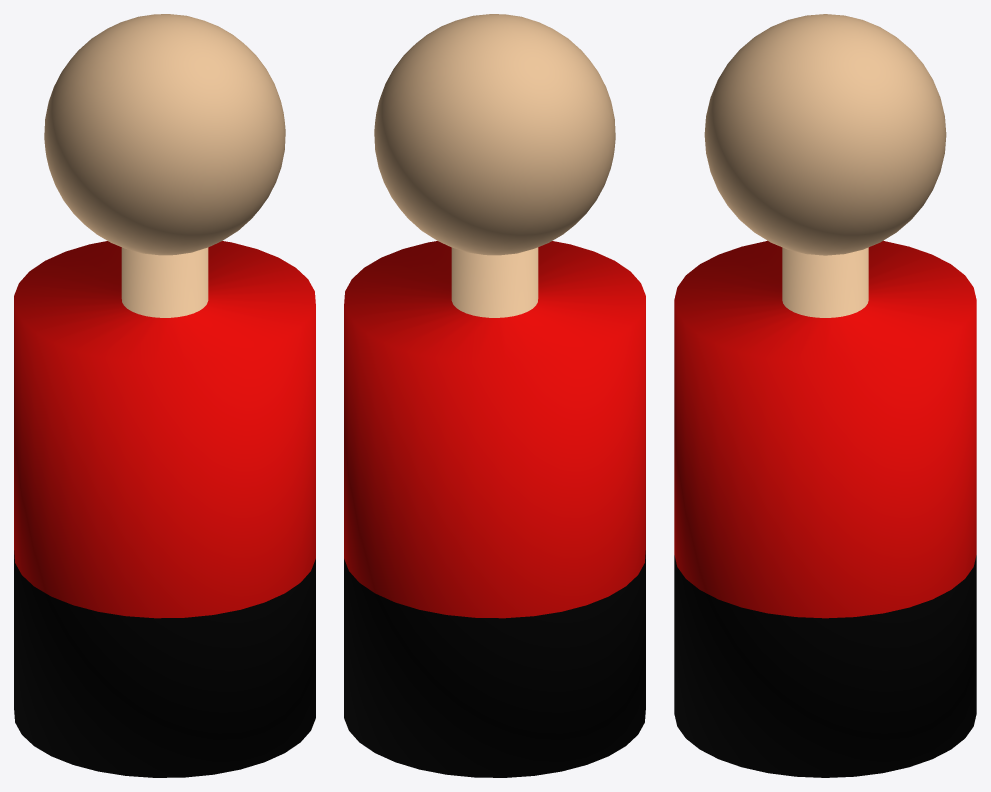
The model's file is Character_06.fbx.
The picture shows the model from 3 angles, left to right: view 1: azimuth 30°, elevation 25°; view 2: azimuth 150°, elevation 25°; view 3: azimuth 270°, elevation 25°; orthographic projection.
Visible parts, largest first — view 1: Circle.004, Icosphere.004; view 2: Circle.004, Icosphere.004; view 3: Circle.004, Icosphere.004.
Part boxes in pixels (bbox=[...]): Circle.004: bbox=[14, 241, 315, 777]; Icosphere.004: bbox=[44, 14, 285, 255]; Circle.004: bbox=[344, 241, 645, 777]; Icosphere.004: bbox=[374, 14, 615, 255]; Circle.004: bbox=[674, 240, 976, 777]; Icosphere.004: bbox=[704, 14, 946, 255].
Bounding box in the file's own units: 200 × 503 × 200.
